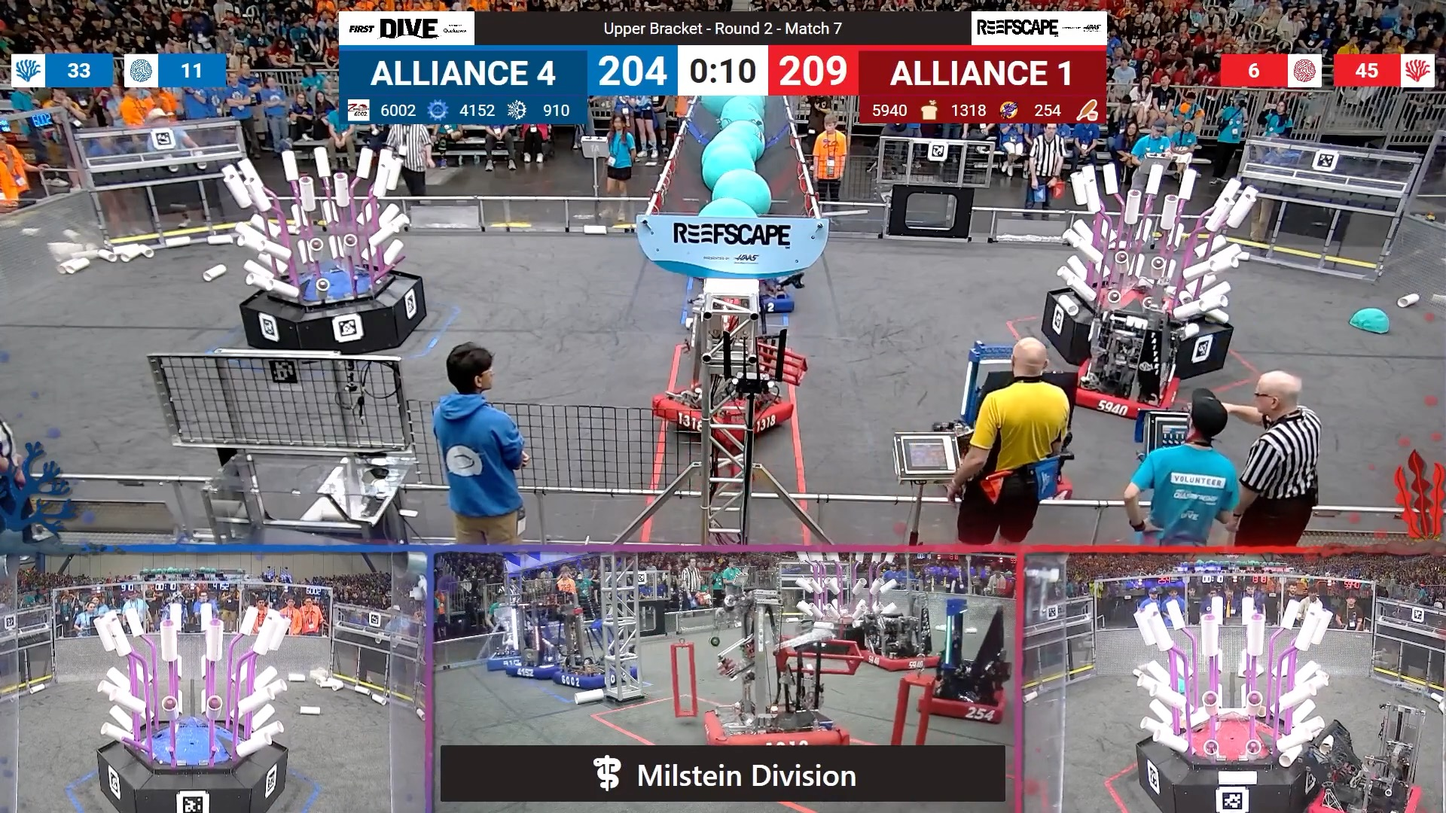bumpers: (1061, 362, 1188, 425), (912, 676, 1014, 725), (1302, 774, 1427, 813), (706, 717, 852, 748), (847, 638, 947, 676), (545, 664, 634, 689), (500, 659, 574, 683), (750, 285, 799, 317)
